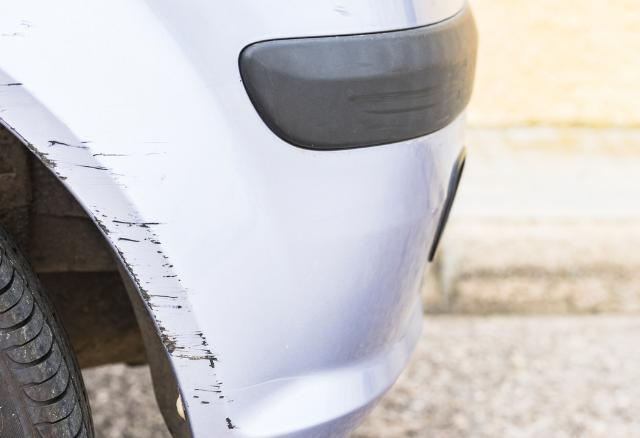scratch: (0, 82, 242, 435)
